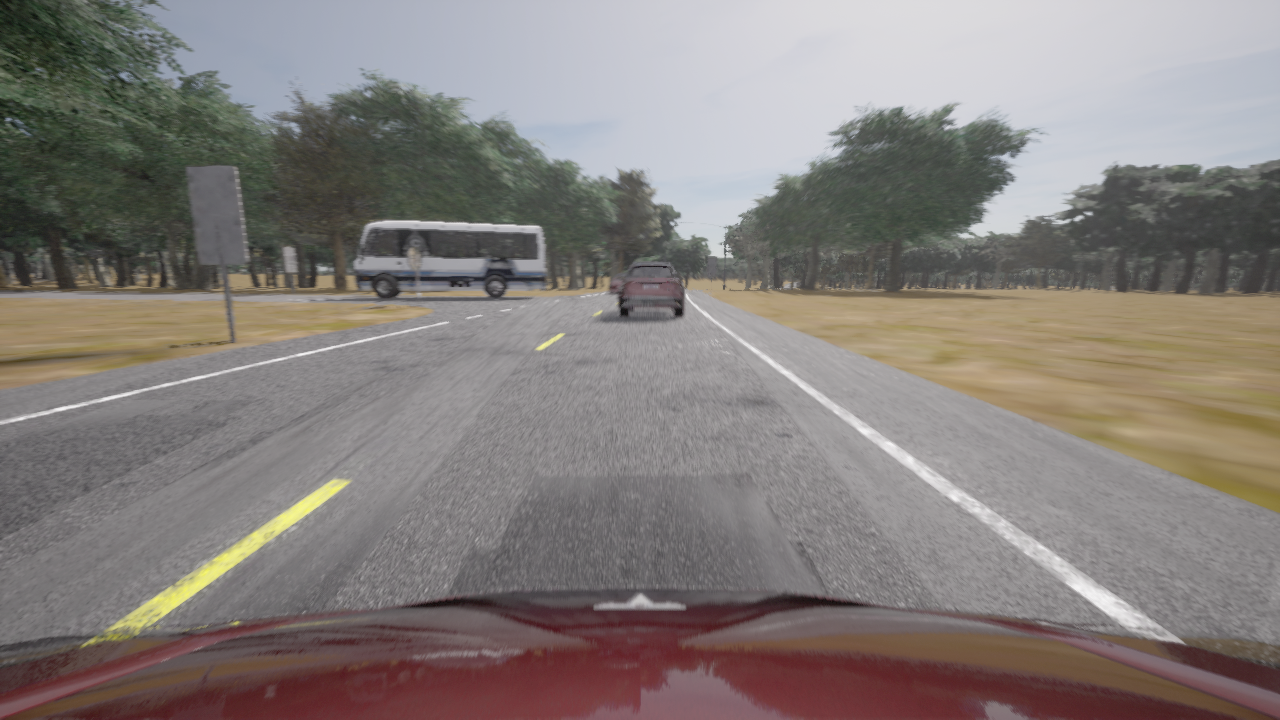cyclist: (0, 588, 1279, 719), (354, 220, 546, 299), (619, 262, 684, 317), (610, 274, 626, 293)
